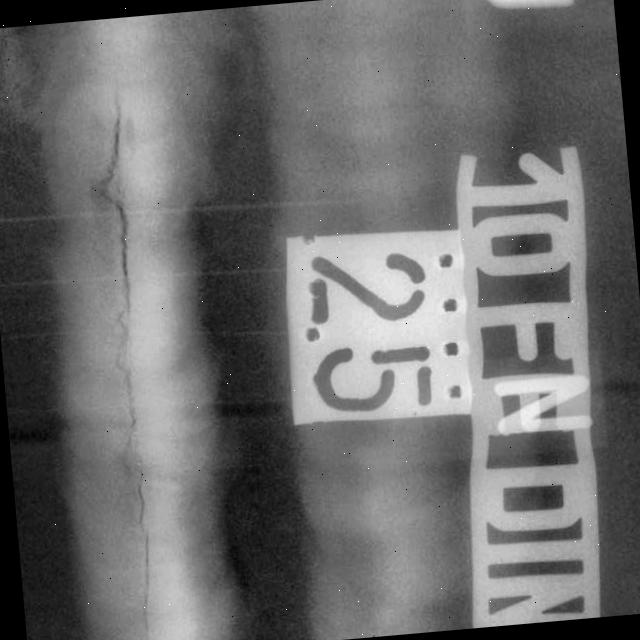Crack: (58, 63, 209, 640)
